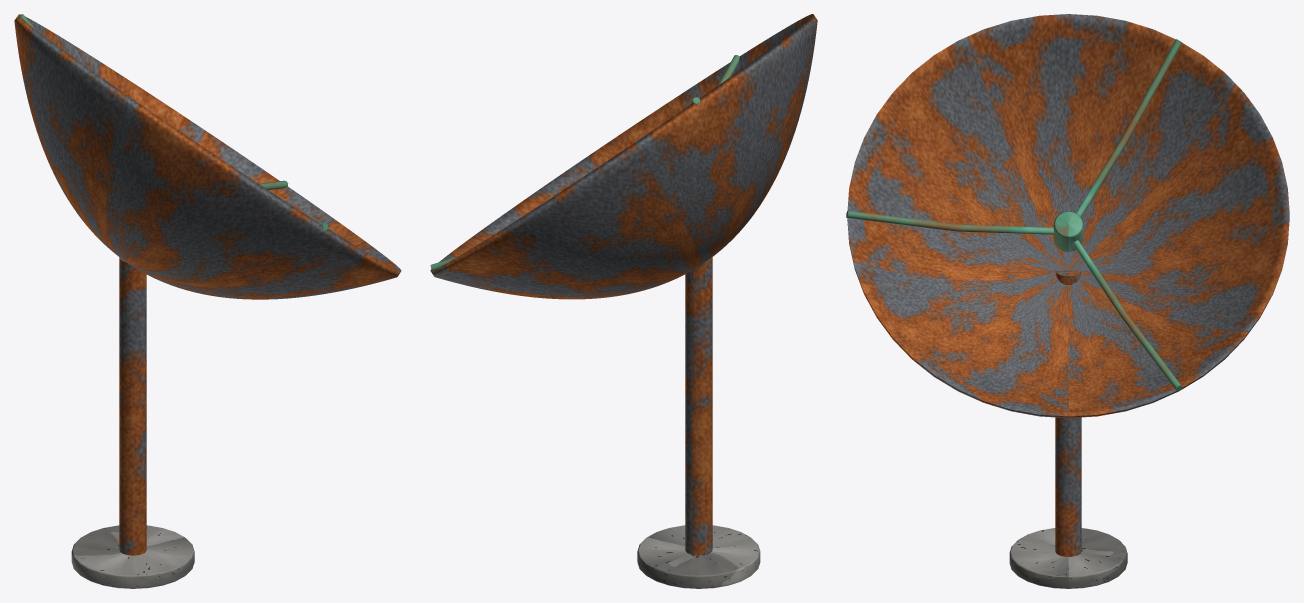
Rendered from satellite_dish.gltf.
3 renders of one model, left to right at view 1: azimuth 30°, elevation 25°; view 2: azimuth 150°, elevation 25°; view 3: azimuth 270°, elevation 25°, orthographic. The views are drawn at different scales.
Visible parts, largest first — view 1: satellite_dish; view 2: satellite_dish; view 3: satellite_dish.
Boxes of the visible parts, box(x1,y1,x2,y2) form: satellite_dish: box(14, 14, 401, 588); satellite_dish: box(430, 14, 817, 588); satellite_dish: box(846, 14, 1289, 588).
Size of the model in its own units: 2.33 by 3.85 by 3.01.
3 materials, 3 textured.
